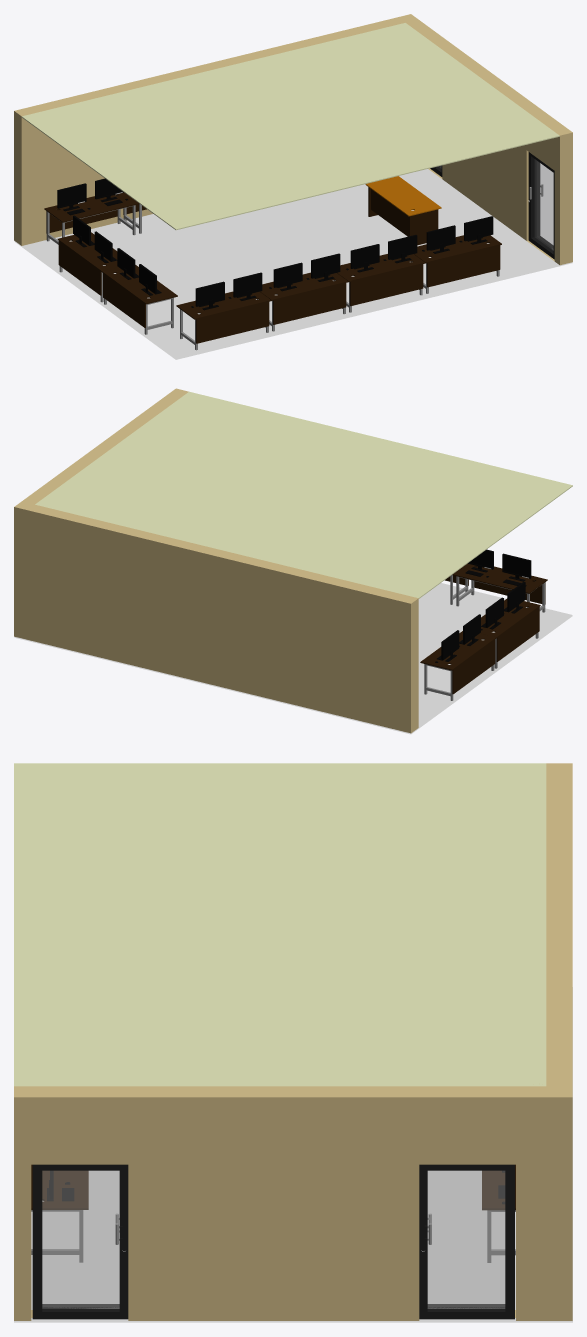
File: CCIS_LabRm2_v1.glb
The picture shows the model from 3 angles, top to bottom: view 1: azimuth 30°, elevation 25°; view 2: azimuth 150°, elevation 25°; view 3: azimuth 270°, elevation 25°; orthographic projection. The views are drawn at different scales.
Parts seen in each view (by area): view 1: Bolts; view 2: Bolts; view 3: Bolts.
Part boxes in pixels (<box>): Bolts: <box>14,14,572,359</box>; Bolts: <box>14,388,572,734</box>; Bolts: <box>14,763,572,1322</box>.
Size of the model in its own units: 4.23 by 1.33 by 2.99.
